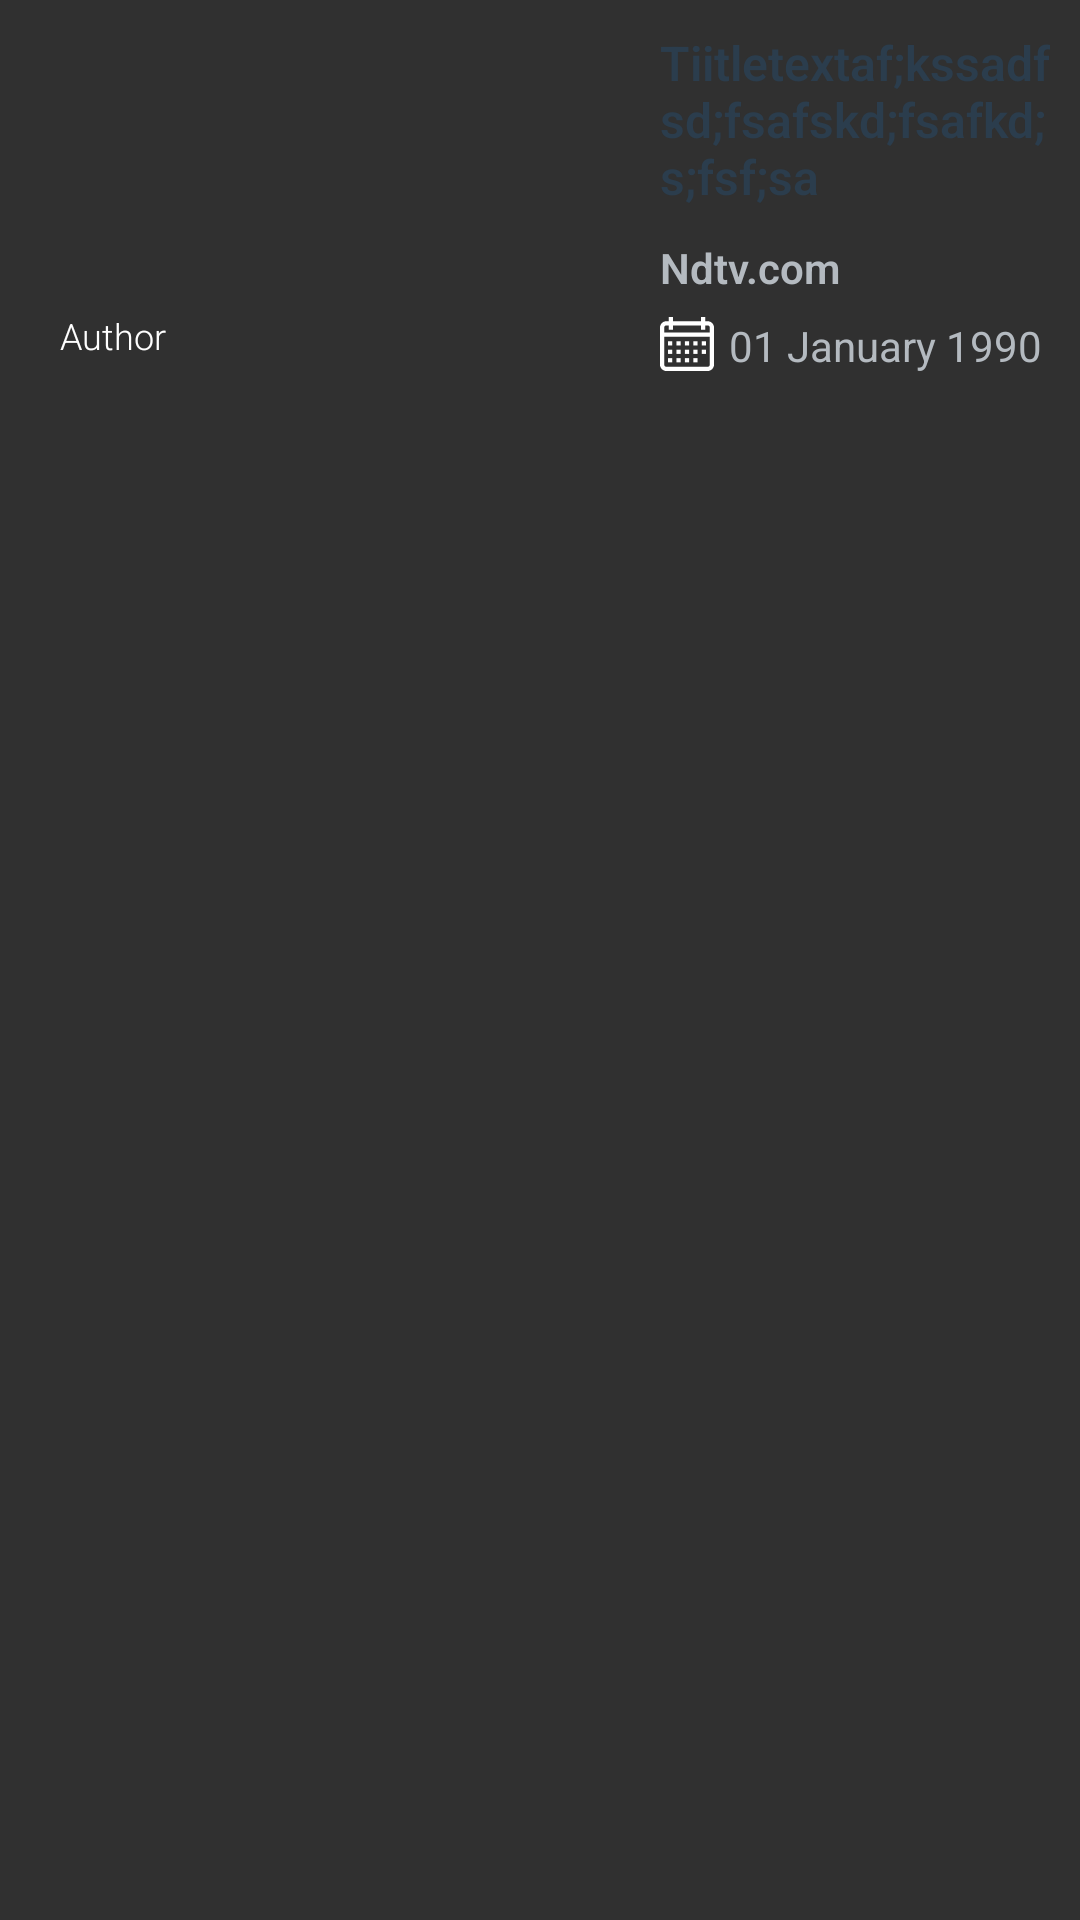

Icon bounding boxes for this 1080×1920 phone screenshot, format box(x1, y1, x2, y2):
calendar: box(660, 317, 714, 371)
